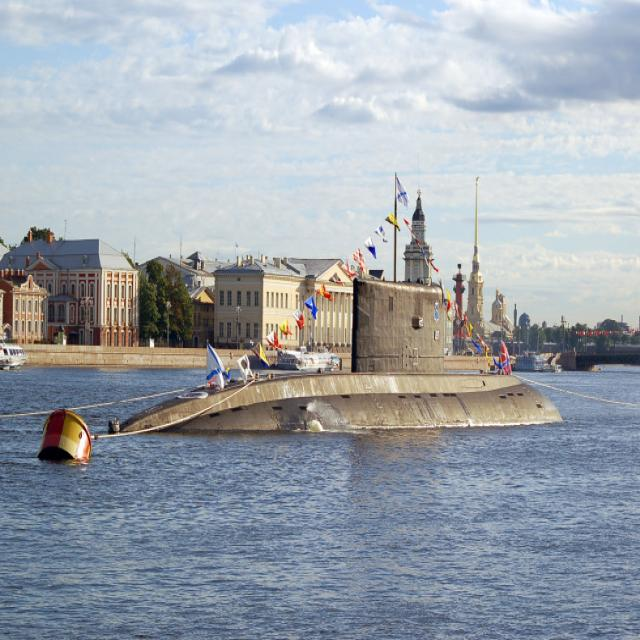submarine: (116, 165, 580, 440)
